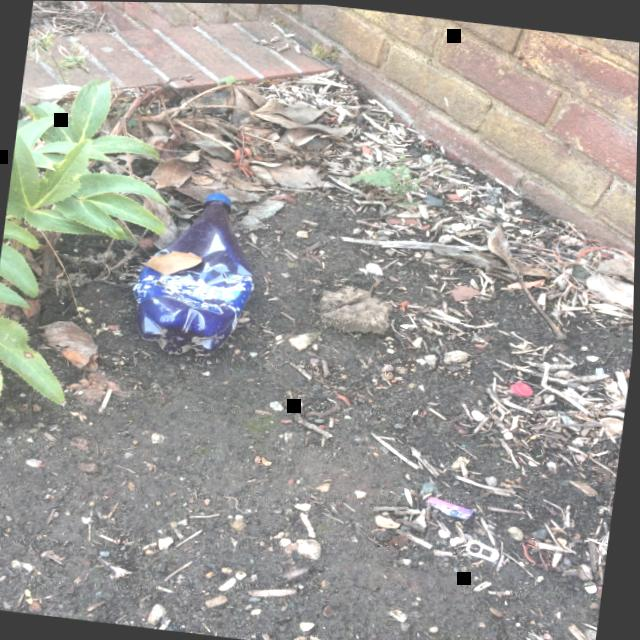Clear plastic bottle: (133, 191, 255, 352)
Metal bottle cap: (510, 379, 533, 393)
Other plastic: (429, 494, 475, 516)
Plastic bottle cap: (205, 191, 231, 203)
Pop tab: (467, 537, 501, 558), (471, 540, 484, 550), (483, 545, 494, 555)
